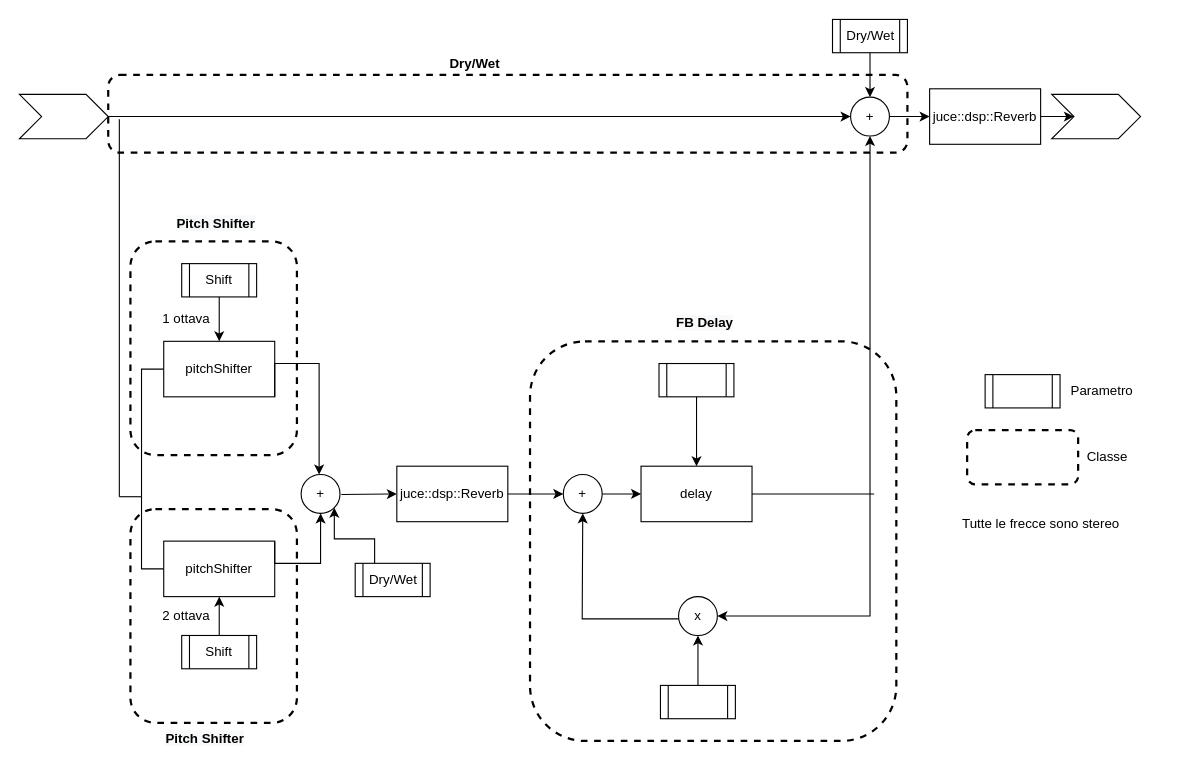
Image size: 1193x776. Some labels were removed from this diagram. Here are the shapes that lost their labels. From the top down, the centre of each, then its label:
At pixel 63 116: "IN".
At pixel 1096 116: "OUT".
At pixel 696 379: "Time".
At pixel 697 701: "Feedback".
